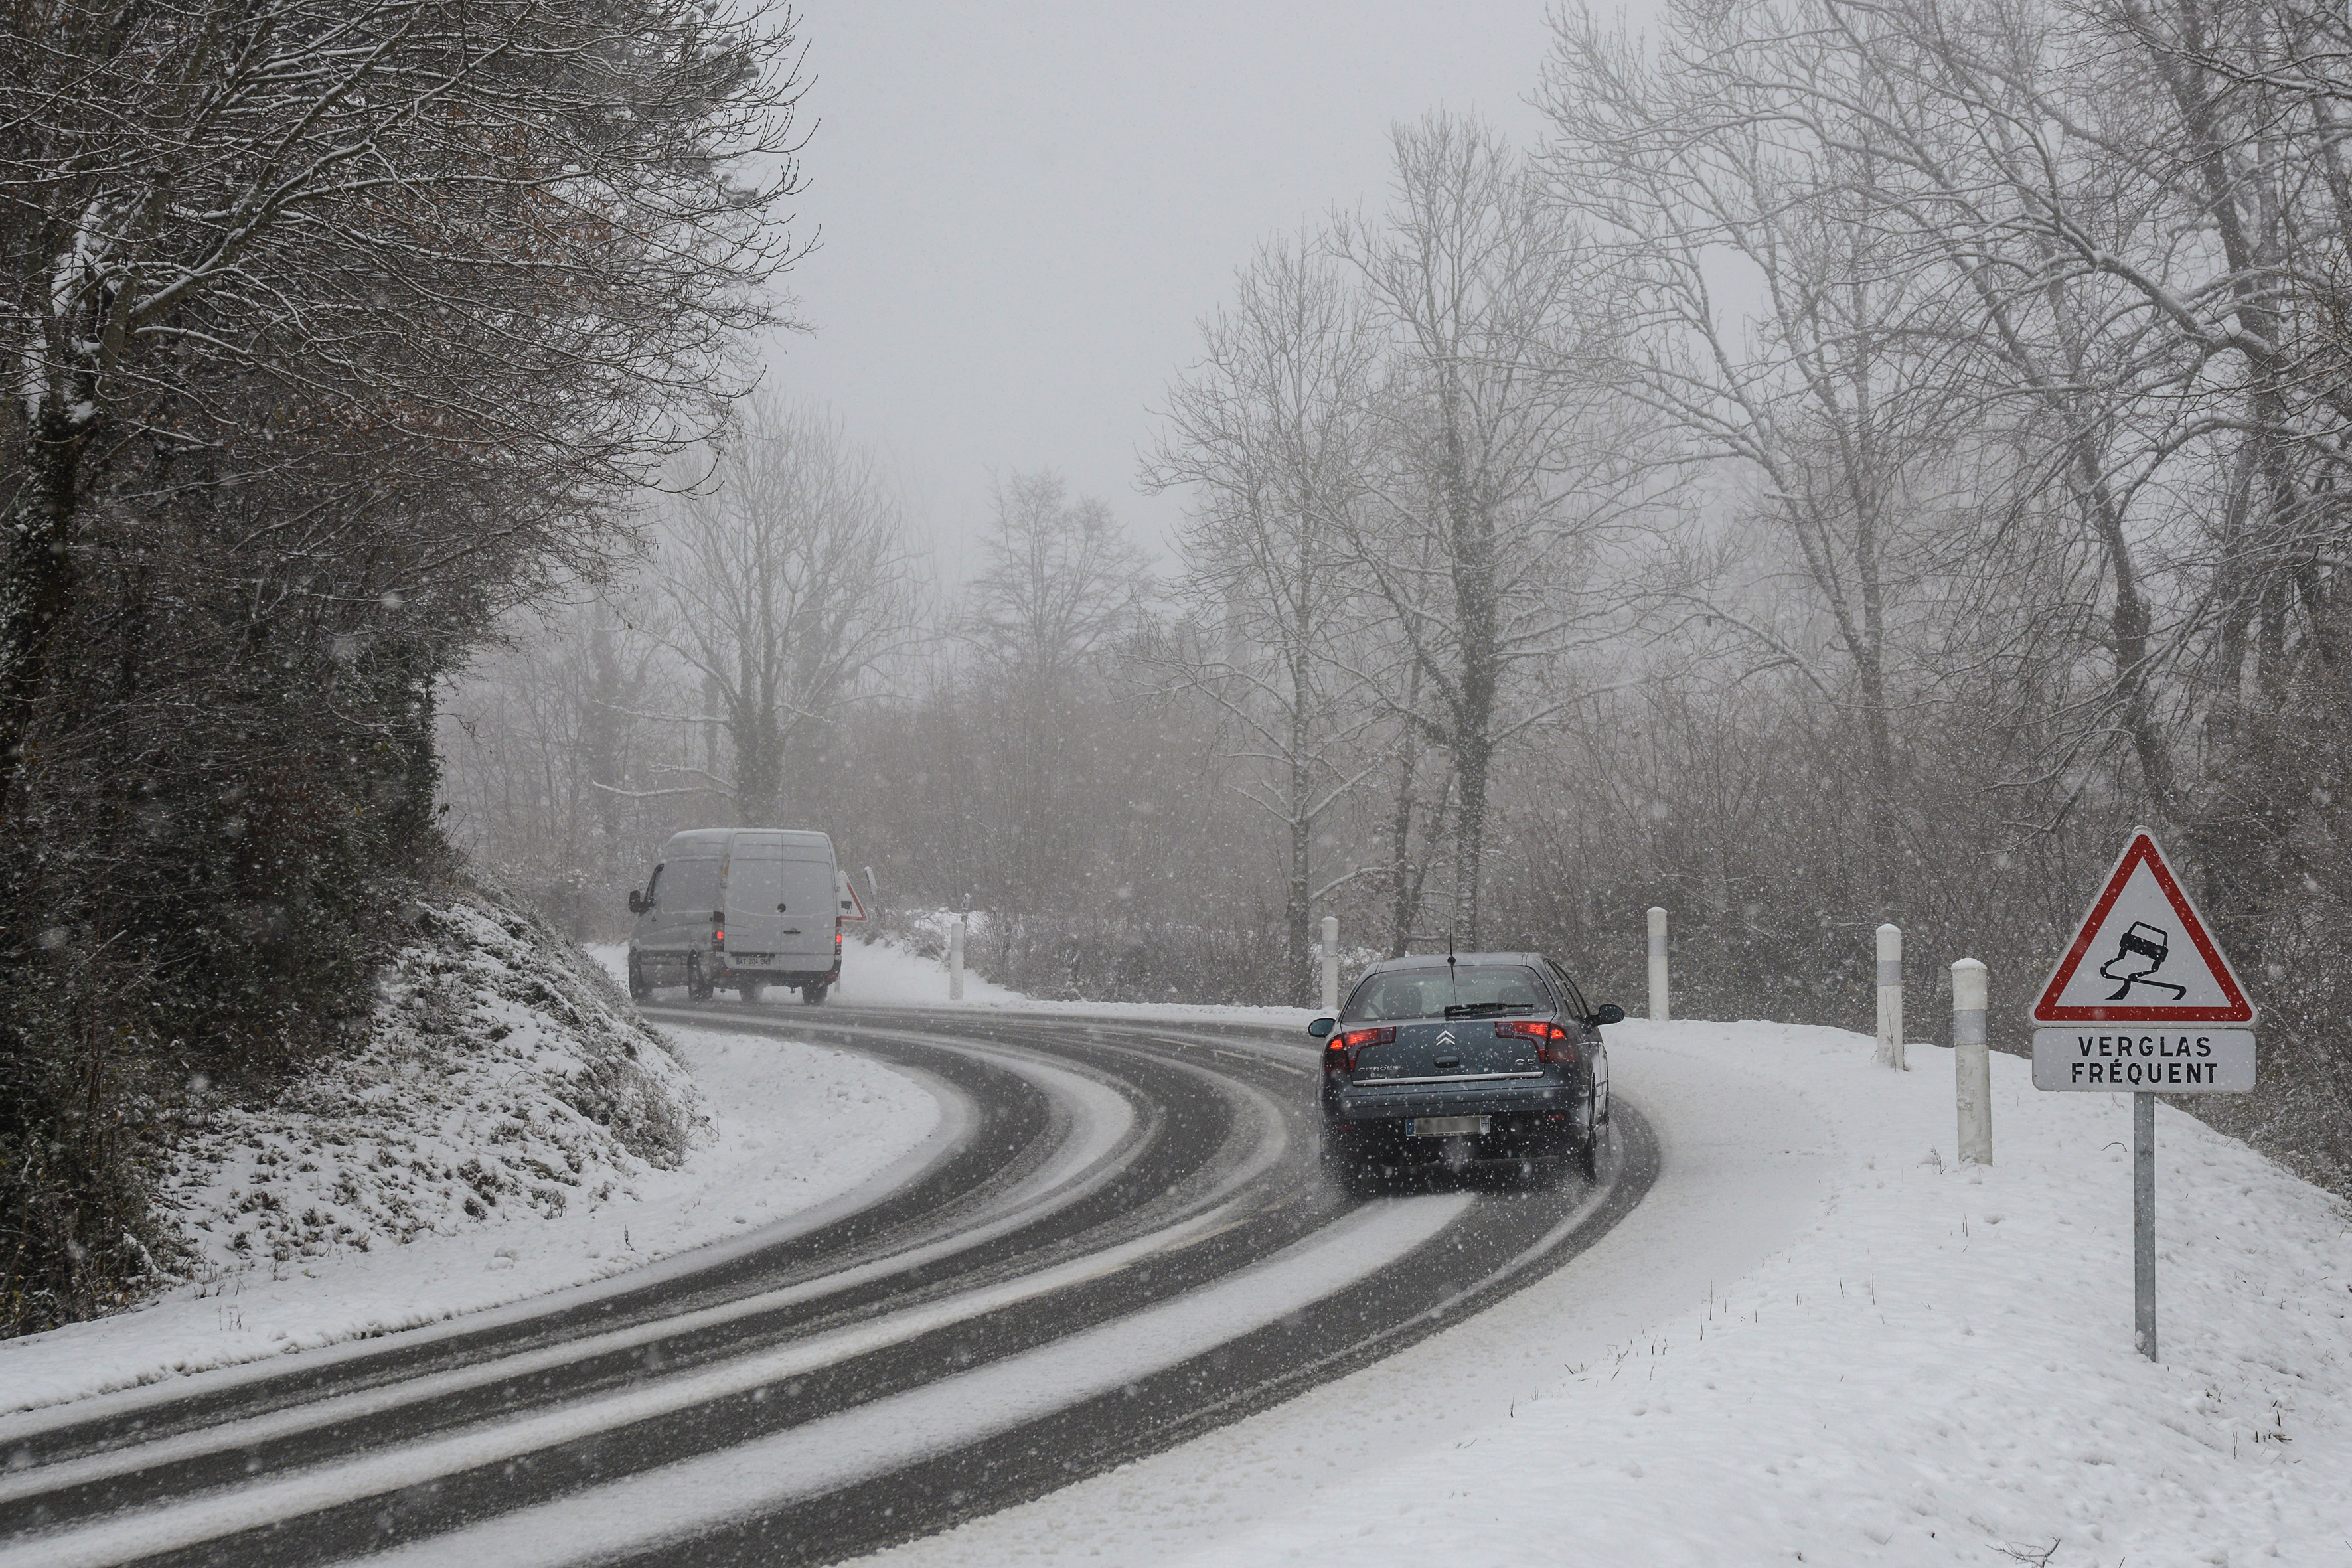sign: (2025, 824, 2270, 1106)
